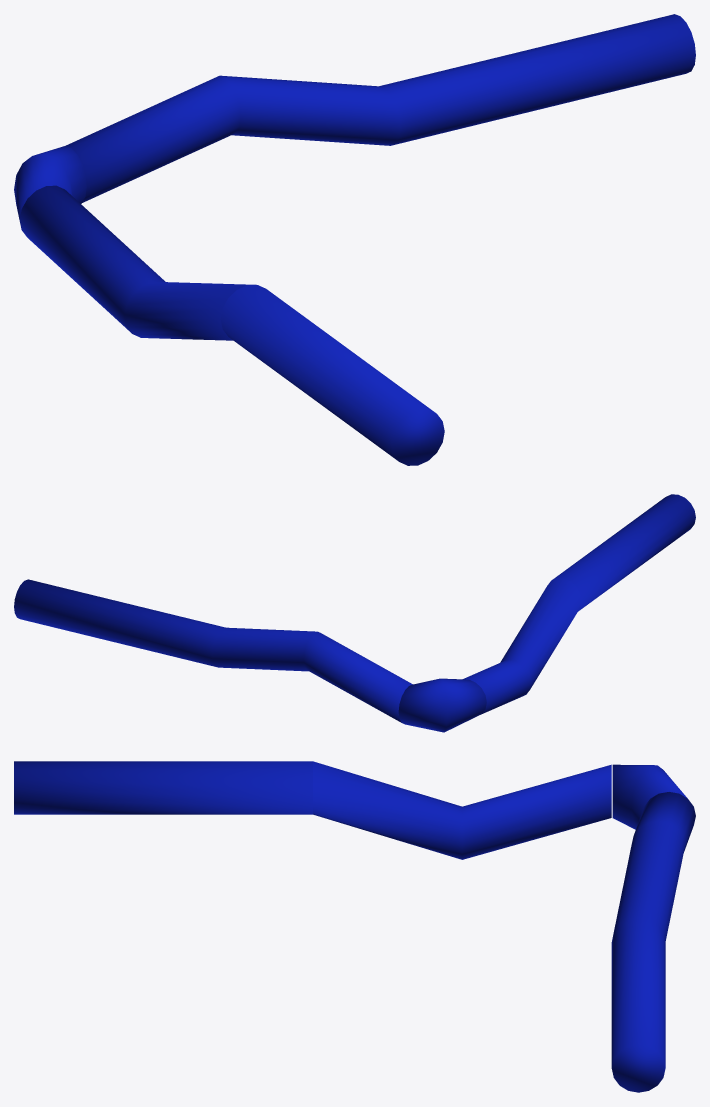
Rendered from cableBlue1.glb.
3 renders of one model, top to bottom at view 1: azimuth 30°, elevation 25°; view 2: azimuth 150°, elevation 25°; view 3: azimuth 270°, elevation 25°, orthographic. The views are drawn at different scales.
Visible parts, largest first — view 1: cableBlue1; view 2: cableBlue1; view 3: cableBlue1.
Boxes of the visible parts, x1,y1,x2,y2 form: cableBlue1: (14,14,695,465); cableBlue1: (14,494,695,732); cableBlue1: (14,761,695,1092).
Bounding box in the file's own units: 2.29 × 0.427 × 2.28.
